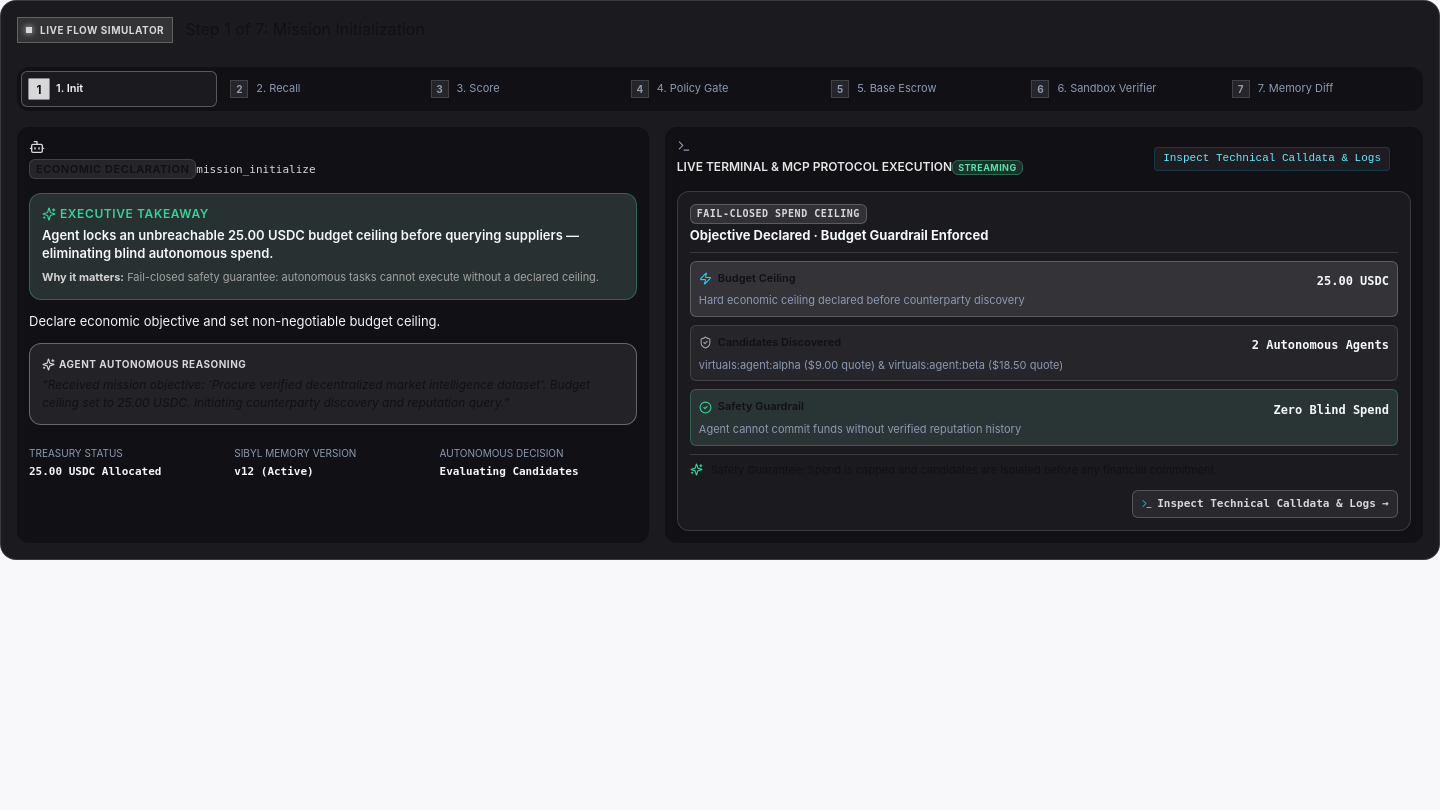
Scenario: Sibyl Studio Components › SibylFlowSimulator › renders visual storycard by default and toggles technical proofs
The width and height of the screenshot is (1440, 810).
Expected: the element with test id "flow-sim-storycard" is shown, top-left (677, 191), bottom-right (1411, 531)
Expected: the text "FAIL-CLOSED SPEND CEILING" is shown, top-left (690, 204), bottom-right (867, 224)
// Click to inspect technical calldata & logs
Step 1. Click the button "Inspect Technical Calldata & Logs →" → {"x": 1265, "y": 504}, box top-left (1132, 490), bottom-right (1398, 518)
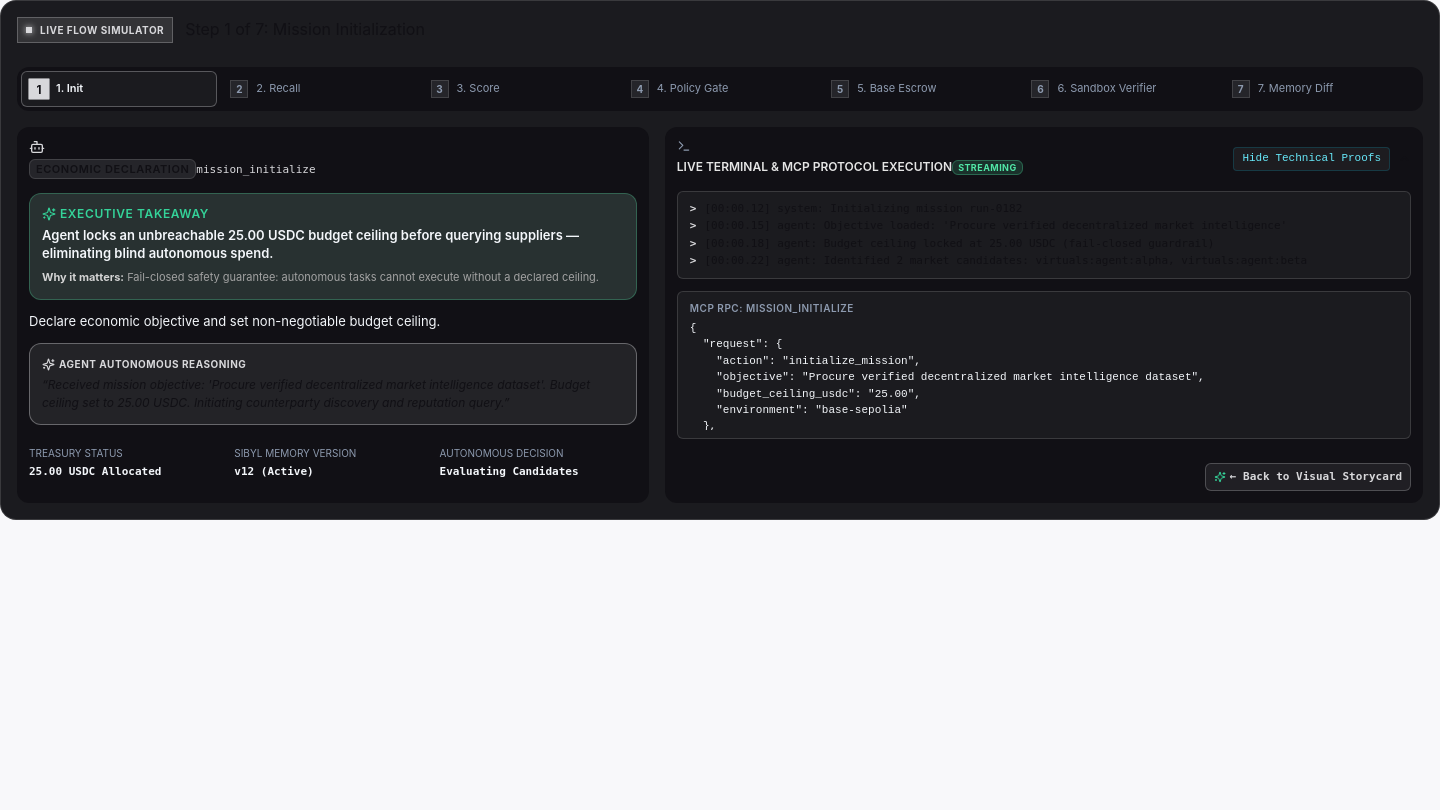
Now the text "MCP RPC: mission_initialize" is shown, box top-left (690, 302), bottom-right (854, 314)
// Click back to visual storycard
Step 2. Click the button "← Back to Visual Storycard" → {"x": 1308, "y": 477}, box top-left (1205, 463), bottom-right (1411, 491)
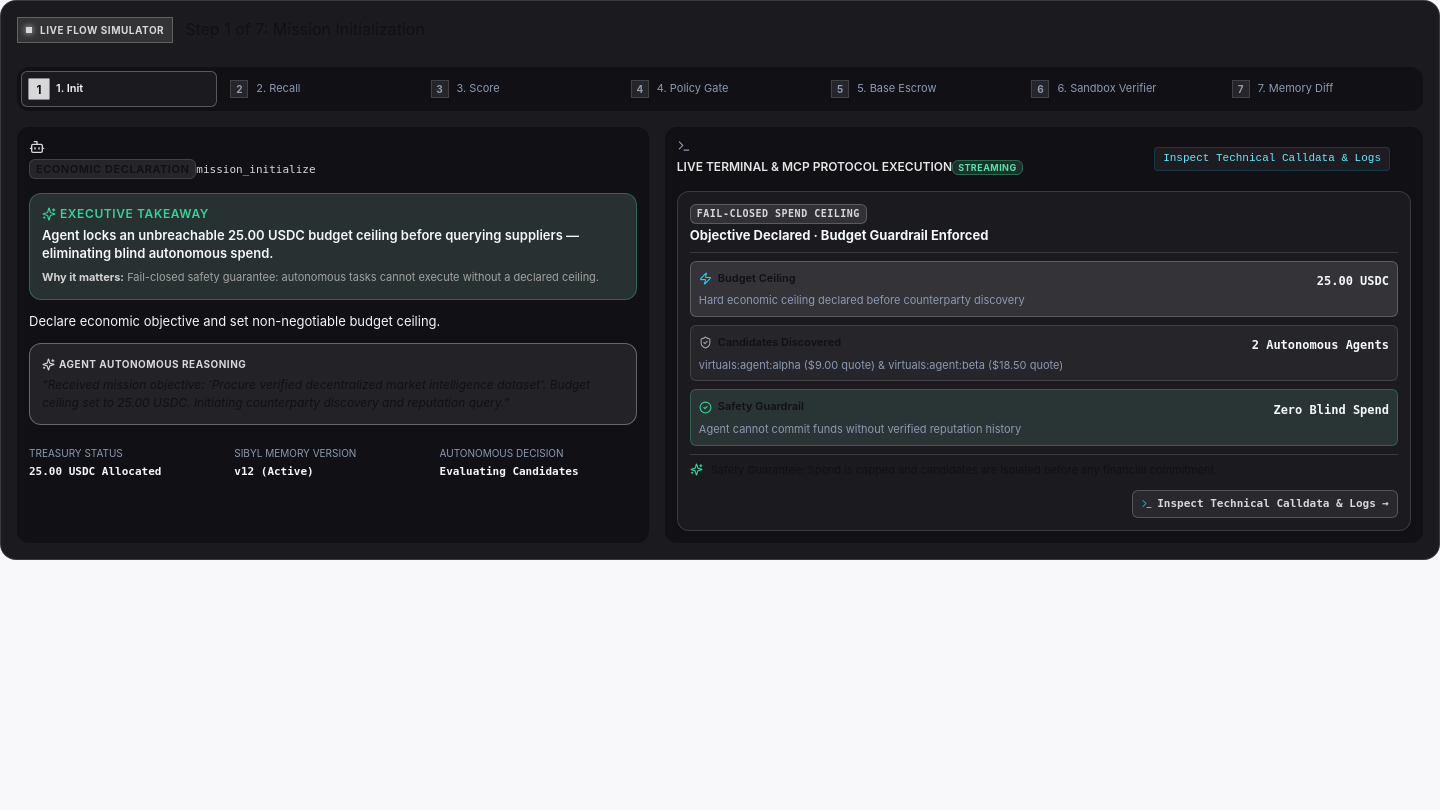
Now the element with test id "flow-sim-storycard" is shown, box top-left (677, 191), bottom-right (1411, 531)
Now the text "MCP RPC: mission_initialize" is gone
